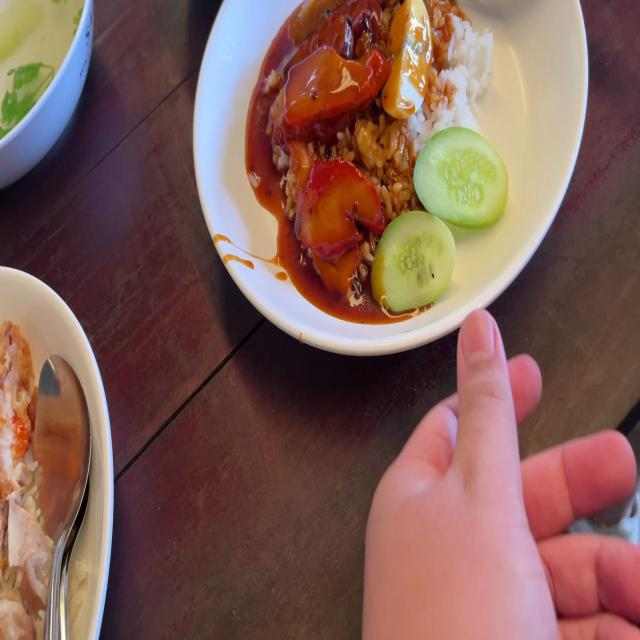01boiled_egg: (379, 0, 425, 116)
01chainese_sausage: (302, 0, 376, 55)
01red_pork: (294, 158, 369, 282), (280, 45, 374, 122)
01red_pork_and_crispy_pork: (266, 0, 512, 307)
cucumber: (409, 124, 510, 224), (374, 210, 452, 308)
